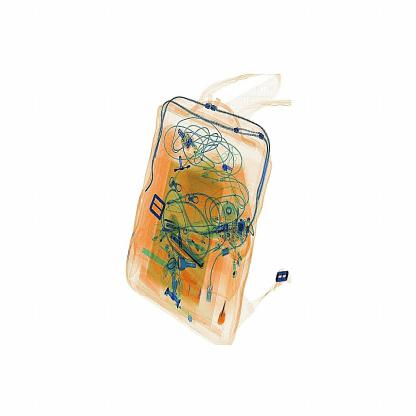wrench: (216, 296, 236, 332)
